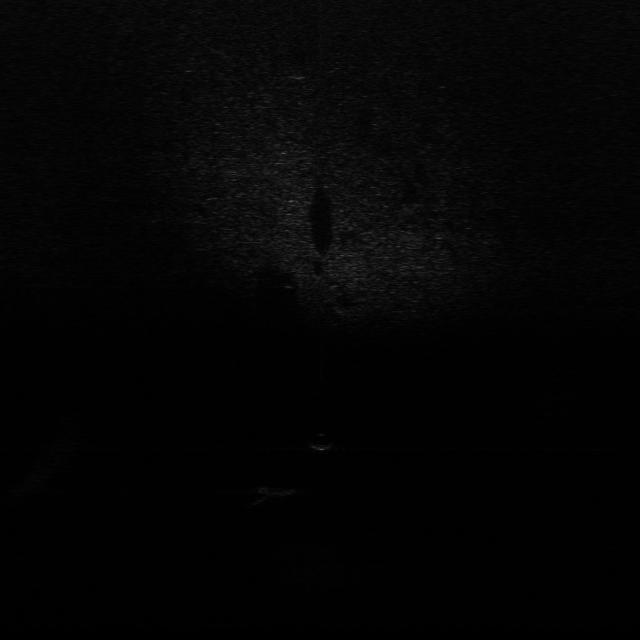ball: (306, 432, 336, 454)
square cage: (252, 479, 308, 500)
